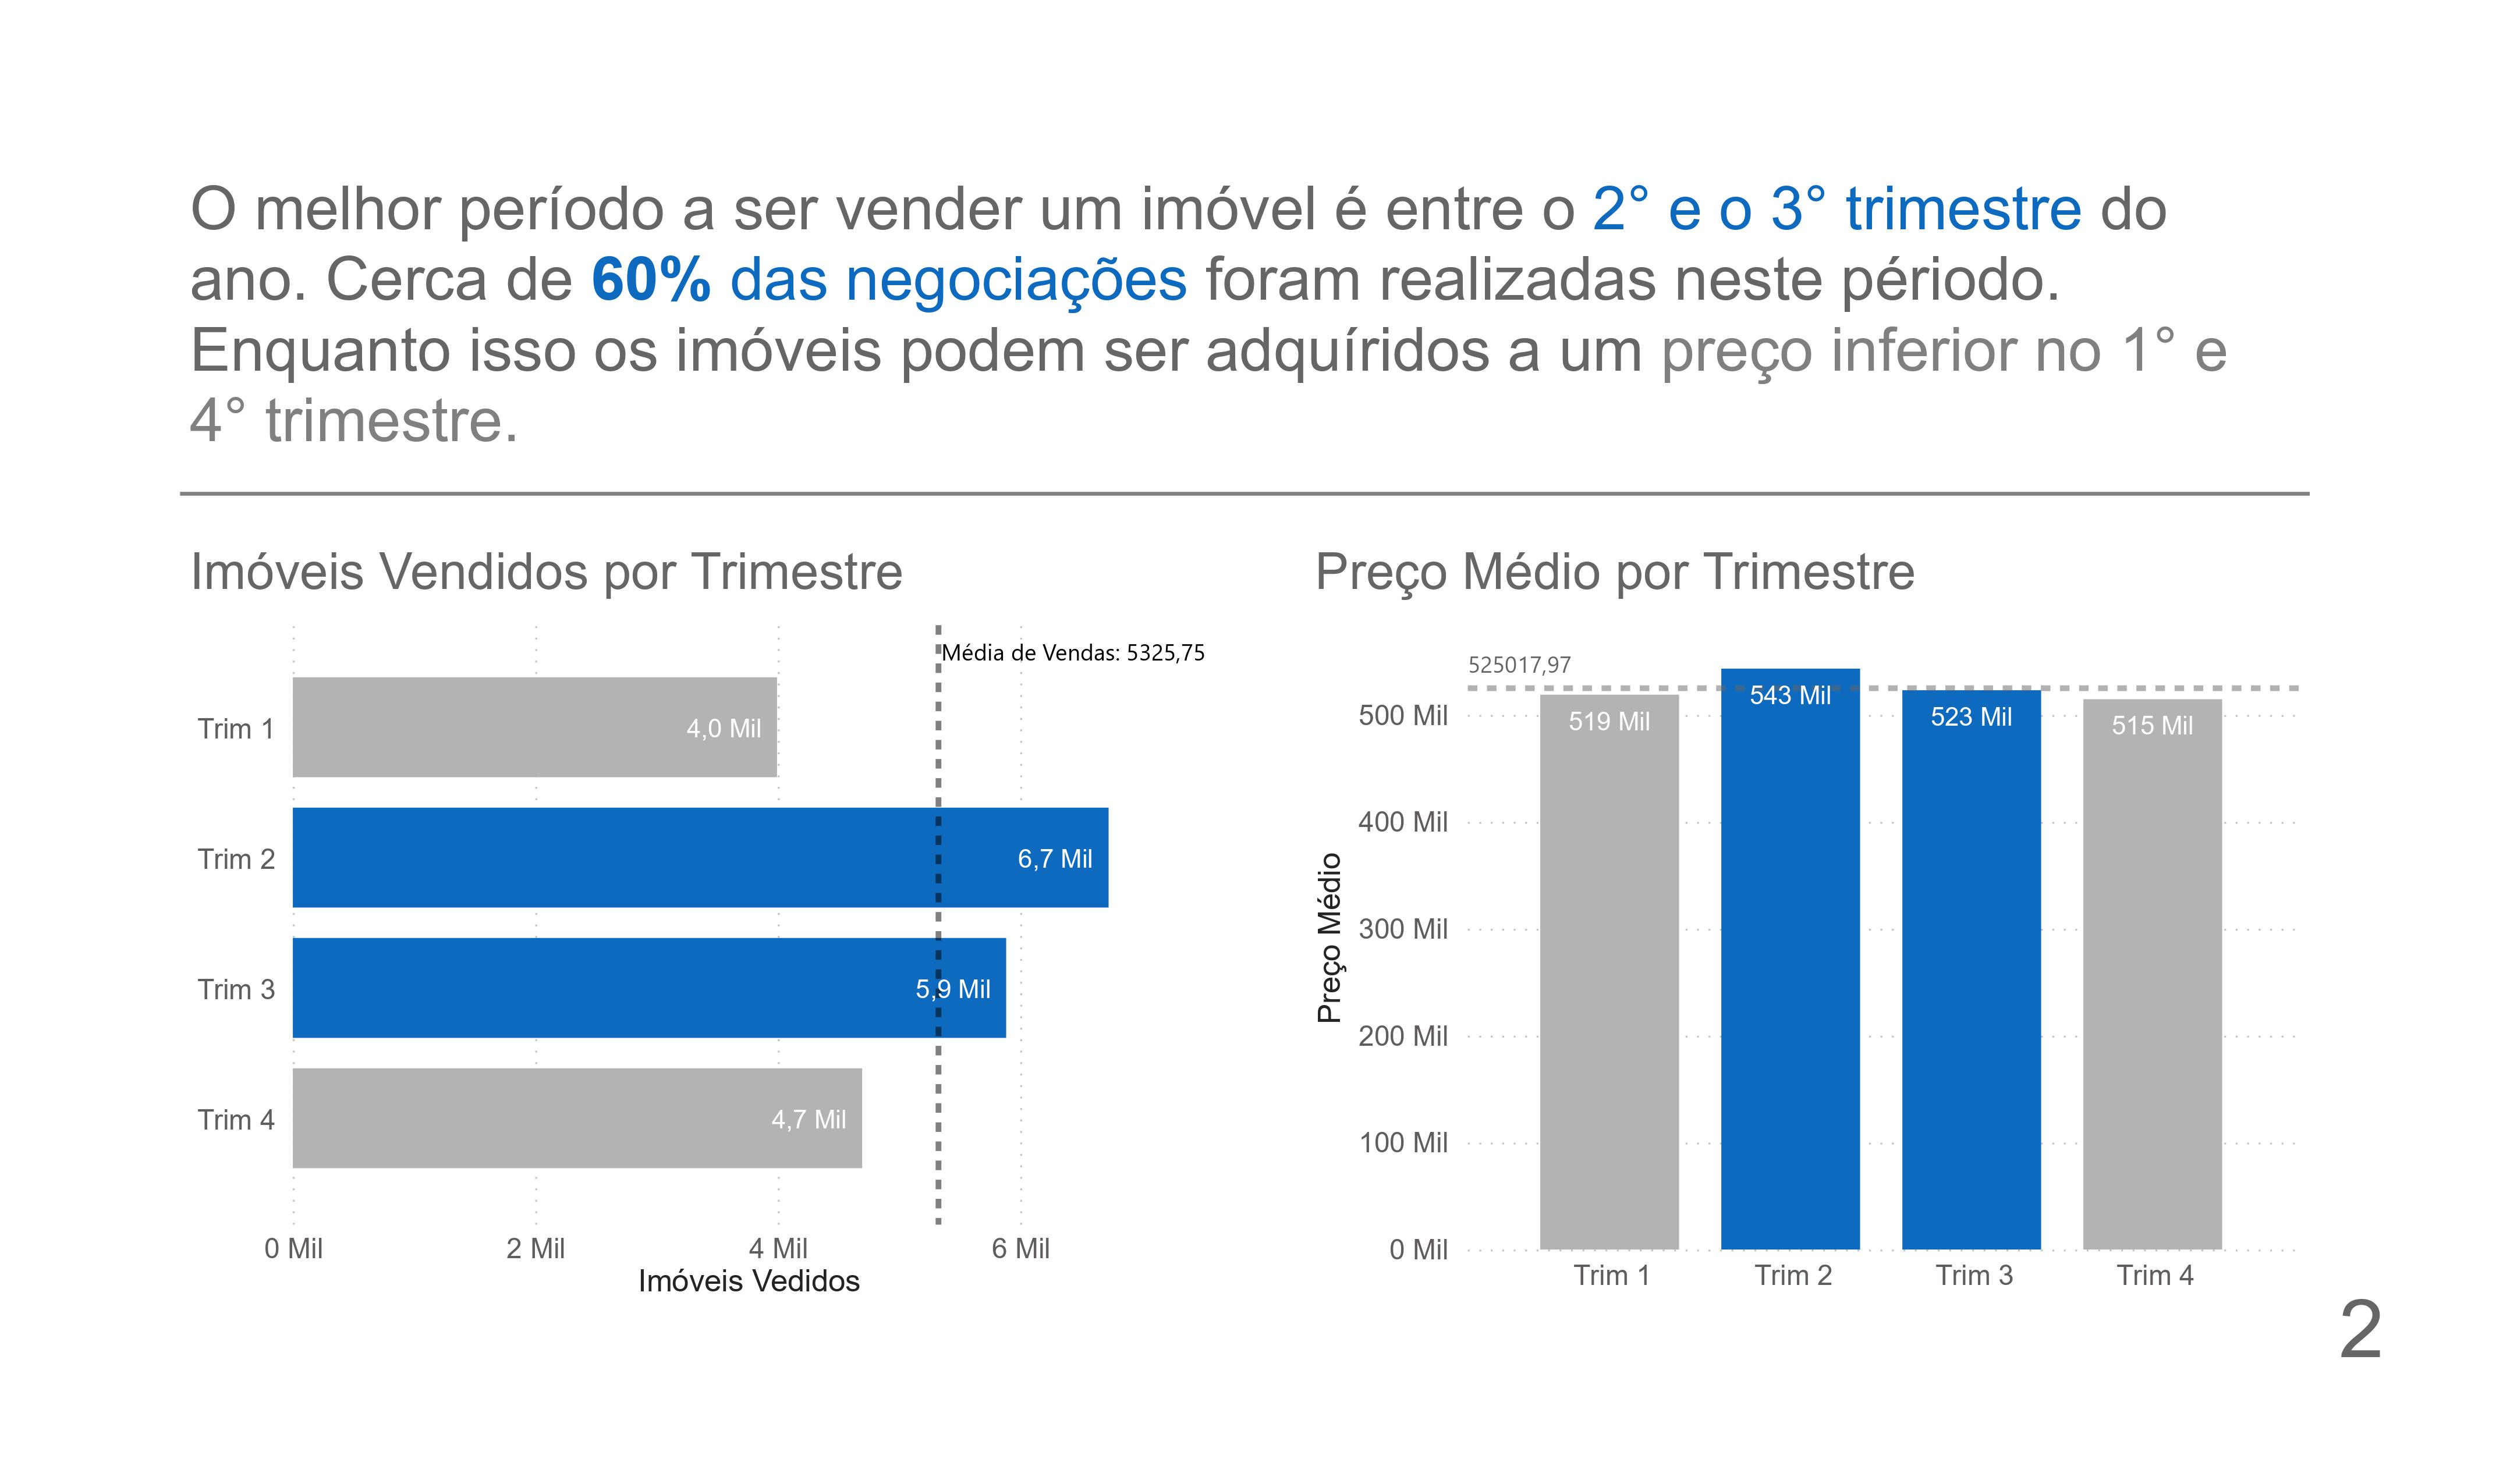

This screenshot's page, from the dashboard's own definition file:
{"tool":"powerbi","page":{"name":"Página 2","canvas":[1280,720],"ordinal":2},"visuals":[{"type":"clusteredColumnChart","title":"Preço Médio por Trimestre","fields":{"Category":["kc_house_data (2).date.Variation.Hierarquia de datas.Trimestre"],"Y":["Avg(kc_house_data (2).price)"]},"box":[668.3,256.2,526,399.5],"z":0},{"type":"clusteredBarChart","title":"Imóveis Vendidos por Trimestre","fields":{"Category":["kc_house_data (2).date.Variation.Hierarquia de datas.Trimestre"],"Y":["CountNonNull(kc_house_data (2).id)"]},"box":[79,256.2,557.6,399.5],"z":1000},{"type":"textbox","box":[79,57.5,1115.2,172.5],"z":2000},{"type":"shape","box":[79,217,1115.2,25.9],"z":3000},{"type":"textbox","box":[1204.3,638.1,63.2,67.5],"z":3001}]}

Visuals, with their boxes on the page's 1280x720 design canvas (x1, y1, x2, y2). These are canvas units, not pixel positions in the 2503x1484 screenshot, which may show the page scaled, cropped or inside an application window:
"Preço Médio por Trimestre" clusteredColumnChart: [668, 256, 1194, 656]
"Imóveis Vendidos por Trimestre" clusteredBarChart: [79, 256, 637, 656]
textbox: [79, 58, 1194, 230]
shape: [79, 217, 1194, 243]
textbox: [1204, 638, 1268, 706]
